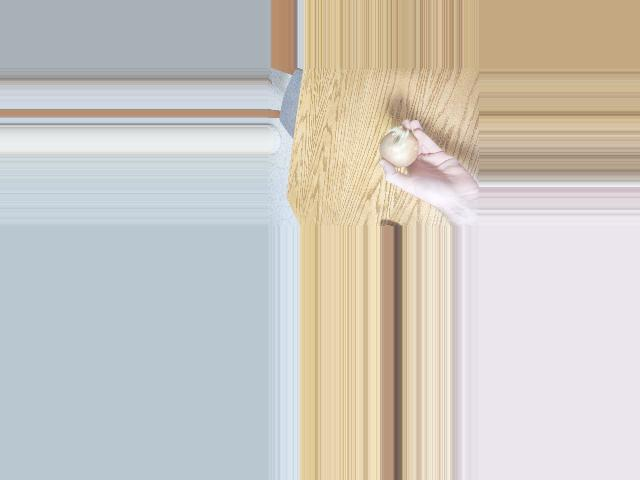onion: (380, 131, 421, 168)
